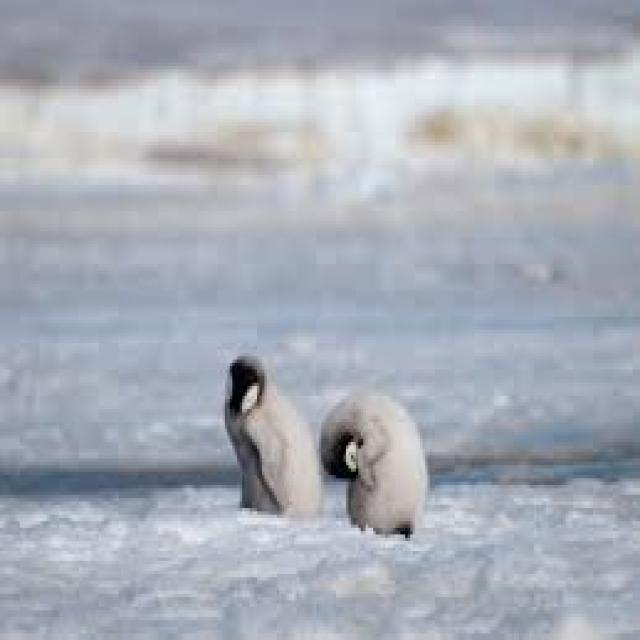penguin: (321, 389, 425, 534), (225, 356, 319, 515)
